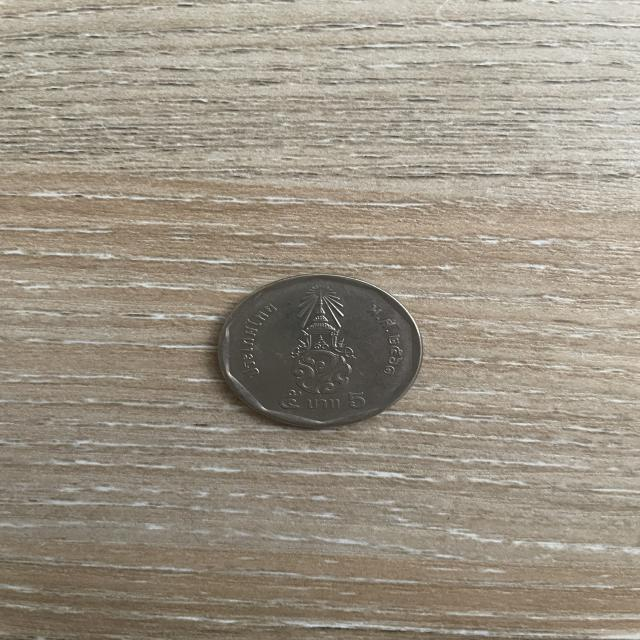5 Bath: (209, 268, 434, 437)
